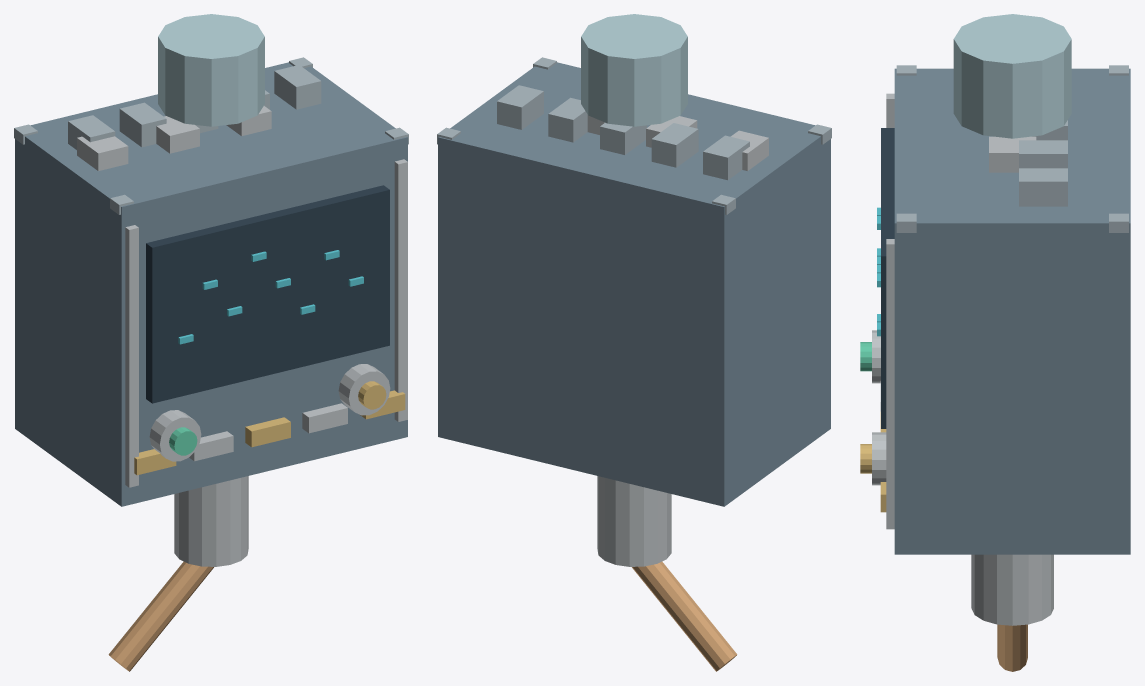
File: 40_L76_ElectrolyteBubbleDetectionSensor.glb
The picture shows the model from 3 angles, left to right: view 1: azimuth 30°, elevation 25°; view 2: azimuth 150°, elevation 25°; view 3: azimuth 270°, elevation 25°; orthographic projection. The views are drawn at different scales.
Parts seen in each view (by area): view 1: ElectrolyteBubbleDetectionSensor_Node_0000, ElectrolyteBubbleDetectionSensor_Node_0007, ElectrolyteBubbleDetectionSensor_Node_0036, ElectrolyteBubbleDetectionSensor_Node_0034, ElectrolyteBubbleDetectionSensor_Node_0005, ElectrolyteBubbleDetectionSensor_Node_0035, ElectrolyteBubbleDetectionSensor_Node_0006, ElectrolyteBubbleDetectionSensor_Node_0028, ElectrolyteBubbleDetectionSensor_Node_0025, ElectrolyteBubbleDetectionSensor_Node_0019, ElectrolyteBubbleDetectionSensor_Node_0017, ElectrolyteBubbleDetectionSensor_Node_0021 (+9 smaller); view 2: ElectrolyteBubbleDetectionSensor_Node_0000, ElectrolyteBubbleDetectionSensor_Node_0036, ElectrolyteBubbleDetectionSensor_Node_0034, ElectrolyteBubbleDetectionSensor_Node_0035, ElectrolyteBubbleDetectionSensor_Node_0025, ElectrolyteBubbleDetectionSensor_Node_0028, ElectrolyteBubbleDetectionSensor_Node_0024, ElectrolyteBubbleDetectionSensor_Node_0027, ElectrolyteBubbleDetectionSensor_Node_0026, ElectrolyteBubbleDetectionSensor_Node_0021; view 3: ElectrolyteBubbleDetectionSensor_Node_0000, ElectrolyteBubbleDetectionSensor_Node_0036, ElectrolyteBubbleDetectionSensor_Node_0034, ElectrolyteBubbleDetectionSensor_Node_0007, ElectrolyteBubbleDetectionSensor_Node_0006, ElectrolyteBubbleDetectionSensor_Node_0028, ElectrolyteBubbleDetectionSensor_Node_0027, ElectrolyteBubbleDetectionSensor_Node_0035, ElectrolyteBubbleDetectionSensor_Node_0023, ElectrolyteBubbleDetectionSensor_Node_0019, ElectrolyteBubbleDetectionSensor_Node_0017, ElectrolyteBubbleDetectionSensor_Node_0004.
Part boxes in pixels (box(x1,y1,x2,y2)): ElectrolyteBubbleDetectionSensor_Node_0000: box(15, 62, 407, 506); ElectrolyteBubbleDetectionSensor_Node_0007: box(146, 185, 389, 403); ElectrolyteBubbleDetectionSensor_Node_0036: box(158, 14, 264, 126); ElectrolyteBubbleDetectionSensor_Node_0034: box(174, 476, 248, 566); ElectrolyteBubbleDetectionSensor_Node_0005: box(125, 225, 138, 487); ElectrolyteBubbleDetectionSensor_Node_0035: box(108, 561, 213, 671); ElectrolyteBubbleDetectionSensor_Node_0006: box(394, 159, 407, 421); ElectrolyteBubbleDetectionSensor_Node_0028: box(274, 65, 321, 109); ElectrolyteBubbleDetectionSensor_Node_0025: box(119, 102, 166, 147); ElectrolyteBubbleDetectionSensor_Node_0019: box(338, 364, 390, 415); ElectrolyteBubbleDetectionSensor_Node_0017: box(149, 410, 201, 461); ElectrolyteBubbleDetectionSensor_Node_0021: box(77, 136, 128, 170); ElectrolyteBubbleDetectionSensor_Node_0000: box(438, 62, 830, 506); ElectrolyteBubbleDetectionSensor_Node_0036: box(581, 14, 687, 126); ElectrolyteBubbleDetectionSensor_Node_0034: box(597, 476, 671, 566); ElectrolyteBubbleDetectionSensor_Node_0035: box(632, 561, 737, 671); ElectrolyteBubbleDetectionSensor_Node_0025: box(651, 123, 698, 167); ElectrolyteBubbleDetectionSensor_Node_0028: box(497, 85, 543, 129); ElectrolyteBubbleDetectionSensor_Node_0024: box(703, 135, 749, 180); ElectrolyteBubbleDetectionSensor_Node_0027: box(548, 97, 587, 142); ElectrolyteBubbleDetectionSensor_Node_0026: box(600, 122, 646, 154); ElectrolyteBubbleDetectionSensor_Node_0021: box(730, 130, 768, 170); ElectrolyteBubbleDetectionSensor_Node_0000: box(894, 68, 1130, 554); ElectrolyteBubbleDetectionSensor_Node_0036: box(953, 14, 1071, 138); ElectrolyteBubbleDetectionSensor_Node_0034: box(971, 554, 1053, 625); ElectrolyteBubbleDetectionSensor_Node_0007: box(881, 128, 894, 428); ElectrolyteBubbleDetectionSensor_Node_0006: box(886, 239, 894, 529); ElectrolyteBubbleDetectionSensor_Node_0028: box(1019, 168, 1067, 206); ElectrolyteBubbleDetectionSensor_Node_0027: box(1019, 140, 1067, 168); ElectrolyteBubbleDetectionSensor_Node_0035: box(997, 624, 1027, 671); ElectrolyteBubbleDetectionSensor_Node_0023: box(989, 136, 1036, 172); ElectrolyteBubbleDetectionSensor_Node_0019: box(872, 432, 886, 485); ElectrolyteBubbleDetectionSensor_Node_0017: box(872, 330, 880, 383); ElectrolyteBubbleDetectionSensor_Node_0004: box(896, 213, 916, 232).
Bounding box in the file's own units: 0.6272 × 1.27 × 0.4585.
